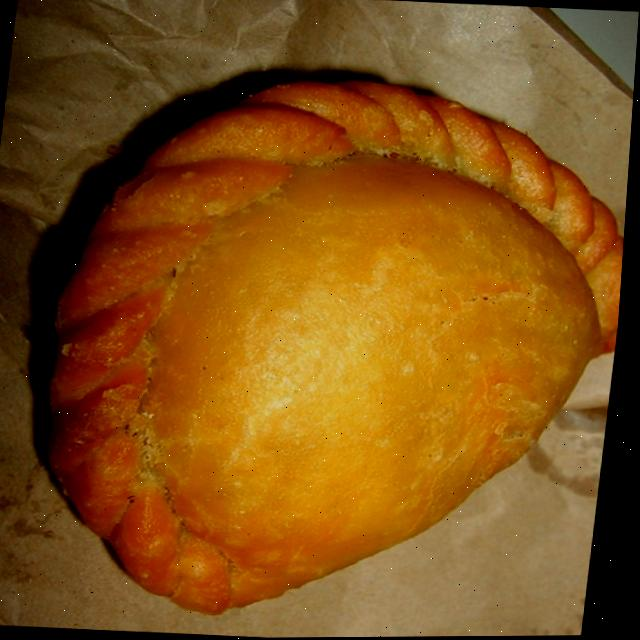炸货点心: (0, 31, 638, 640)
